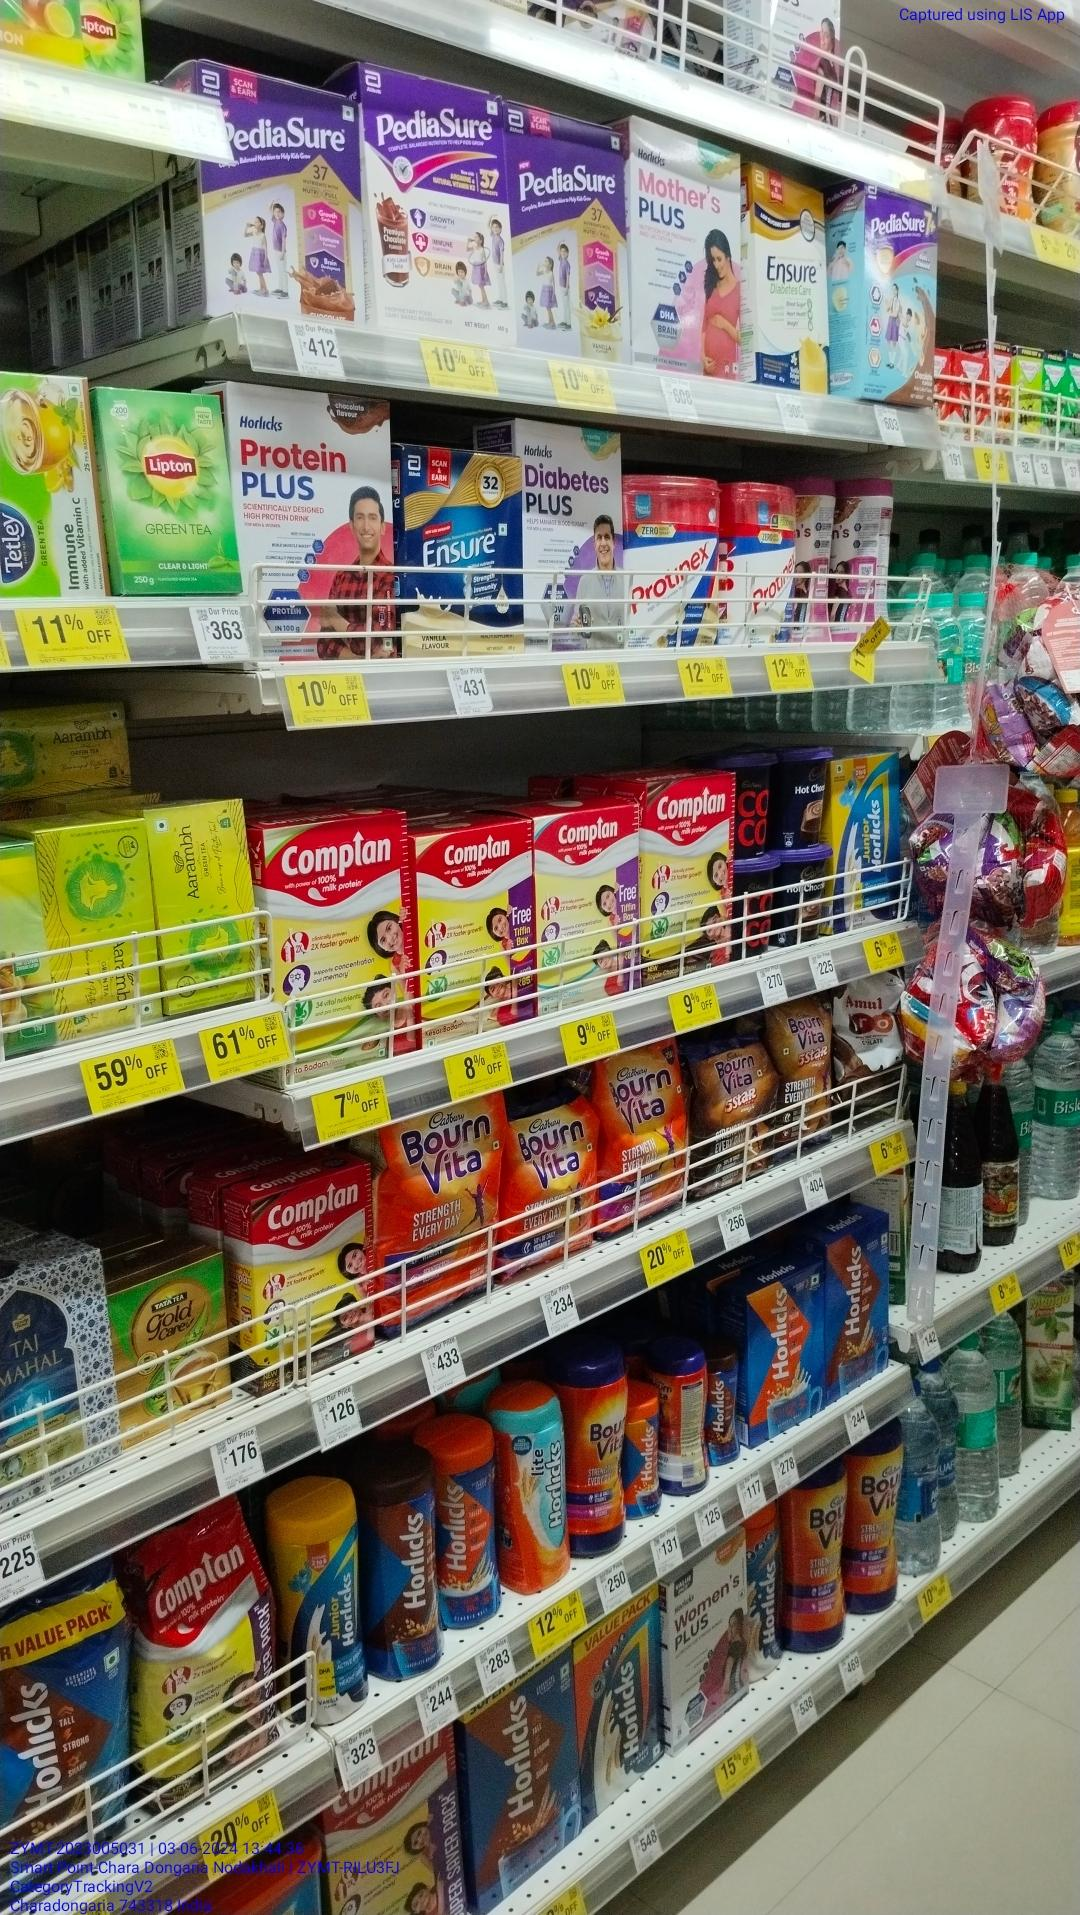BOURN_VITA_1_KG_POUCH: (379, 1094, 501, 1326)
BOURN_VITA_500_G_JAR: (785, 1469, 851, 1659), (570, 1334, 625, 1549), (852, 1432, 908, 1616)
BOURN_VITA_500_G_POUCH: (505, 1089, 602, 1272)
BOURN_VITA_750_G_POUCH: (606, 1047, 692, 1234)
BOURN_VITA_FIVE_STAR_MAGIC_500_G_POUCH: (699, 1034, 775, 1185)
BOURN_VITA_FIVE_STAR_MAGIC_750_G_POUCH: (780, 1001, 843, 1148)
COMPLAN_CREAMY_CLASSIC_500_G_PACK: (538, 805, 641, 1007)
COMPLAN_PISTA_BADAM_500_GMS_PACK: (267, 819, 410, 1069)
COMPLAN_RC_POUCH_700_GMS_12: (130, 1532, 280, 1795)
ENSURE_VANILLA_400_G_PACK: (404, 445, 524, 654)
HORLICKS_JUNIOR_VANILLA_500_GM_JAR: (285, 1478, 367, 1727)
HORLICKS_LITE_REGULAR_MALT_500_GM_JAR: (505, 1373, 563, 1605)
HORLICK_CHOCOLATE_1_KG_PACK: (467, 1672, 576, 1876)
HORLICK_CHOCOLATE_200_G_JAR: (706, 1345, 738, 1467)
HORLICK_CHOCOLATE_500_G_JAR: (371, 1445, 441, 1684)
HORLICK_CHOCOLATE_500_G_PACK: (829, 1221, 893, 1390)
HORLICK_CHOCOLATE_750_G_POUCH: (0, 1597, 122, 1885)
HORLICK_CLASSIC_MALT_200_G_JAR: (626, 1384, 663, 1522)
HORLICK_CLASSIC_MALT_500_G_JAR: (442, 1410, 503, 1627)
HORLICK_CLASSIC_MALT_500_G_PACK: (580, 1618, 662, 1805), (746, 1264, 825, 1444)
PEDIASURE_7_PLUS_CHOCOLATE_400_G_PACK: (863, 185, 938, 412)
PEDIASURE_CHOCOLATE_500_G_PACK: (204, 71, 362, 321)
PEDIASURE_VANILLA_500_G_PACK: (505, 103, 635, 359)
PROTINEX_VANILLA_400_G_JAR: (620, 473, 721, 650)
